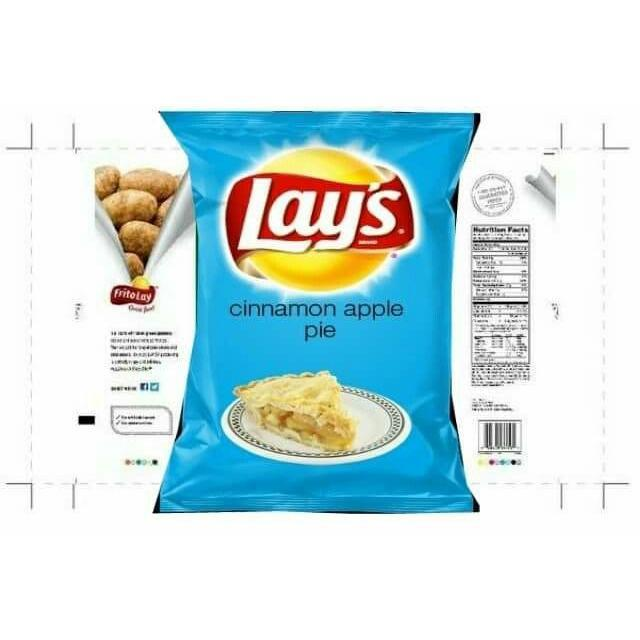Bolsa-de-plastico: (155, 114, 487, 514)
